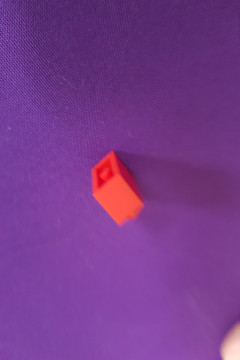1x2 red: (85, 148, 145, 228)
